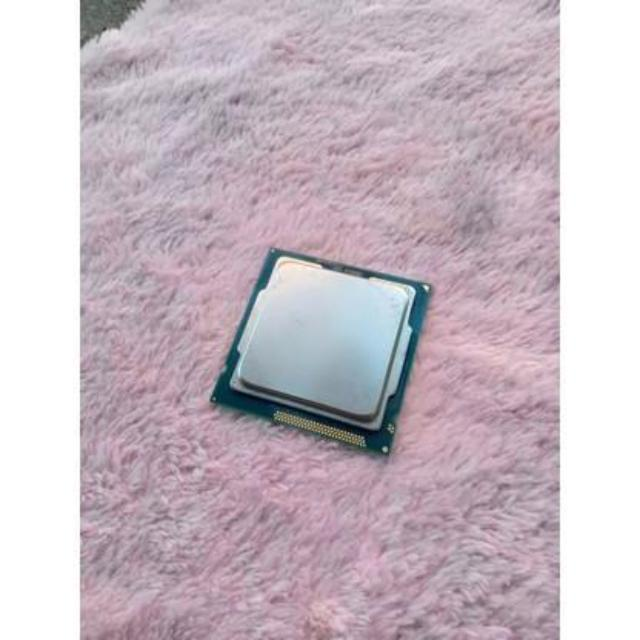CPU: (213, 247, 435, 462)
